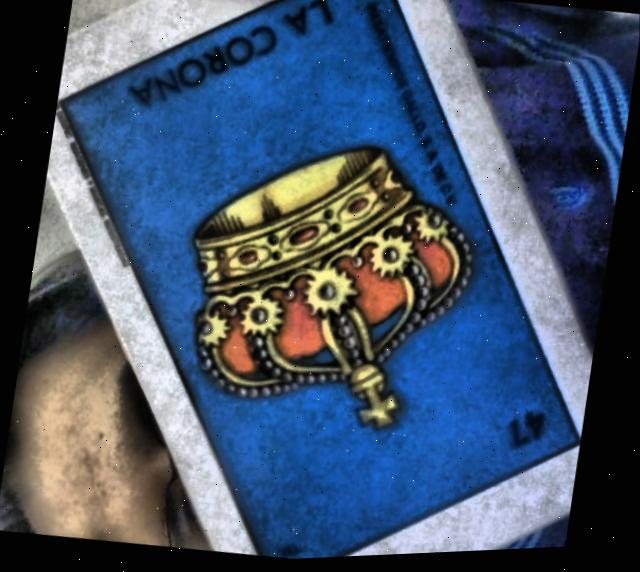La Corona: (61, 0, 578, 562)
